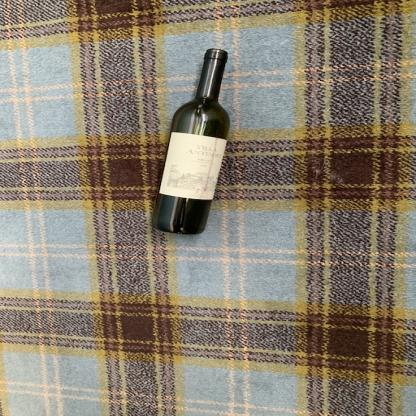trash: (150, 46, 234, 237)
